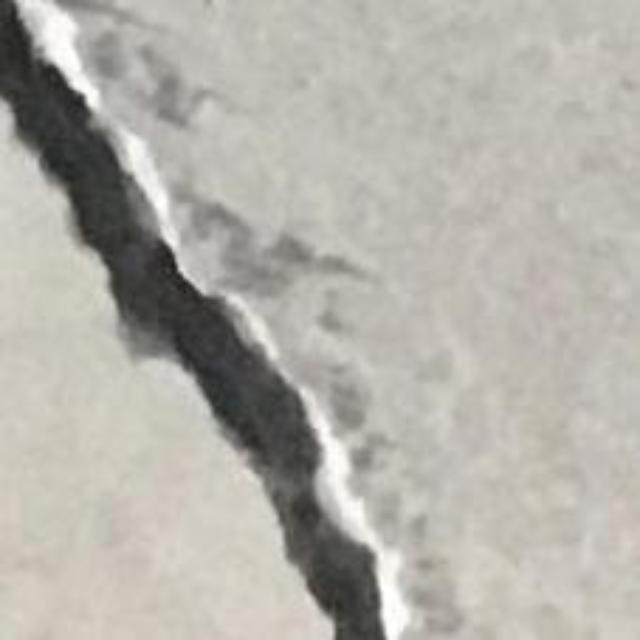crack: (0, 0, 391, 639)
